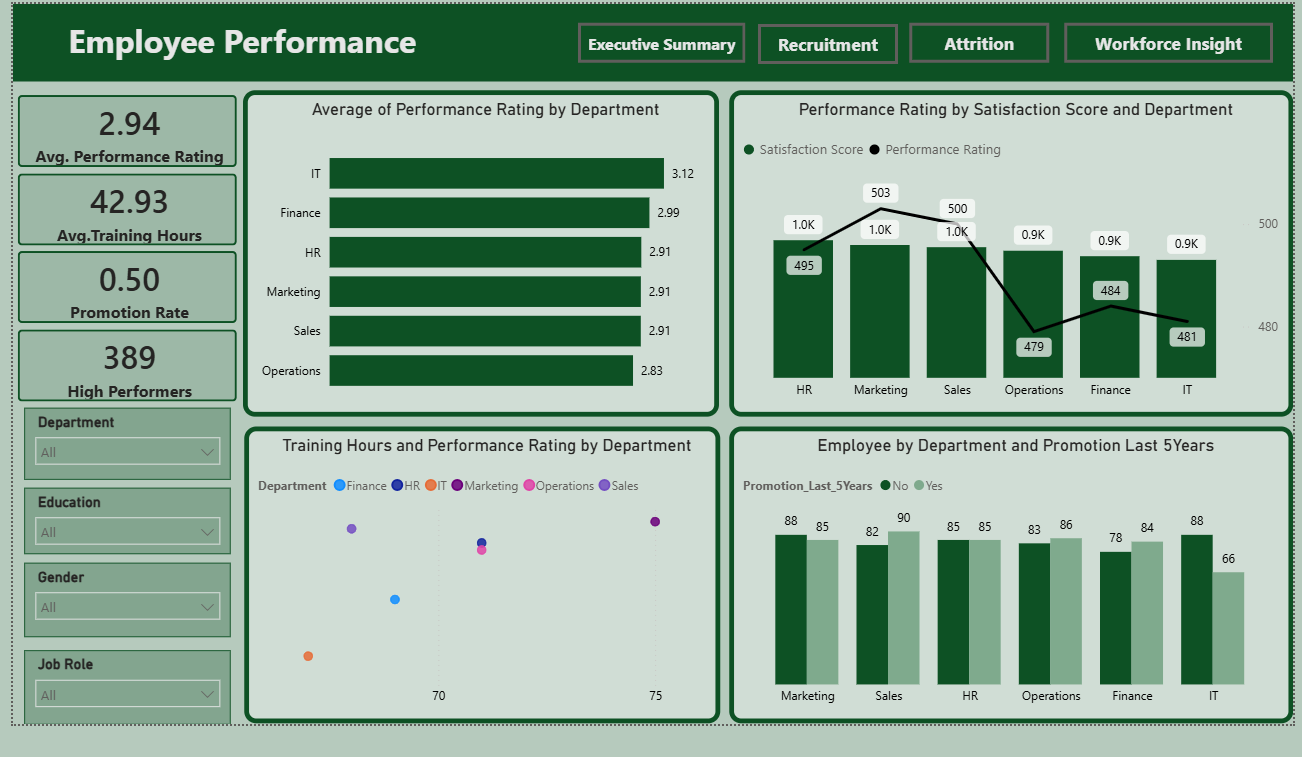

Layout of this report page (visuals, bound fields, positions):
{"tool":"powerbi","page":{"name":"Performance","canvas":[1280,720],"ordinal":2},"visuals":[{"type":"shape","box":[0,0,1280,77.5],"z":0},{"type":"textbox","box":[0,10,458.8,58.8],"z":1000},{"type":"actionButton","box":[896.2,18.8,140,40],"z":2000},{"type":"actionButton","box":[1051.2,18.8,208.8,40],"z":3000},{"type":"actionButton","box":[565,18.8,167.5,40],"z":4000},{"type":"actionButton","box":[745,20,140,40],"z":5000},{"type":"cardVisual","fields":{"Data":["Avg(Hr_Analytics.Performance_Rating)","Avg(Hr_Analytics.Training_Hours)","Hr_Analytics.Promotion Rate","Hr_Analytics.High Performers"]},"box":[0,86.8,229.9,316.7],"z":6000},{"type":"clusteredBarChart","title":"Average of Performance Rating by Department","fields":{"Category":["Hr_Analytics.Department"],"Y":["Avg(Hr_Analytics.Performance_Rating)"]},"box":[229.9,86.8,475.7,326.5],"z":7000},{"type":"lineClusteredColumnComboChart","title":"Performance Rating by Satisfaction Score and Department","fields":{"Category":["Hr_Analytics.Department"],"Y":["Sum(Hr_Analytics.Satisfaction_Score)"],"Y2":["Sum(Hr_Analytics.Performance_Rating)"]},"box":[716.6,86.8,563.7,326.5],"z":8000},{"type":"scatterChart","title":"Training Hours and Performance Rating by Department","fields":{"Y":["CountNonNull(Hr_Analytics.Performance_Rating)"],"X":["Count(Hr_Analytics.Training_Hours)"],"Series":["Hr_Analytics.Department"]},"box":[231.2,422.5,475.7,297.1],"z":9000},{"type":"clusteredColumnChart","title":" Employee by Department and Promotion Last 5Years","fields":{"Category":["Hr_Analytics.Department"],"Y":["CountNonNull(Hr_Analytics.Employee_ID)"],"Series":["Hr_Analytics.Promotion_Last_5Years"]},"box":[716.6,423.1,563.7,297.1],"z":10000},{"type":"slicer","fields":{"Values":["Hr_Analytics.Department"]},"box":[11,403.5,206.7,72.1],"z":11000},{"type":"slicer","fields":{"Values":["Hr_Analytics.Gender"]},"box":[11,558.8,206.7,74.6],"z":12000},{"type":"slicer","fields":{"Values":["Hr_Analytics.Job_Role"]},"box":[11,645.7,206.7,74.6],"z":13000},{"type":"slicer","fields":{"Values":["Hr_Analytics.Education"]},"box":[11,484.2,206.7,66],"z":14000}]}

Visuals, with their boxes in screenshot pixels (x1, y1, x2, y2):
shape: (left=7, top=0, right=1291, bottom=78)
textbox: (left=7, top=10, right=467, bottom=69)
actionButton: (left=906, top=19, right=1046, bottom=59)
actionButton: (left=1061, top=19, right=1271, bottom=59)
actionButton: (left=574, top=19, right=742, bottom=59)
actionButton: (left=754, top=20, right=895, bottom=60)
cardVisual - Avg(Hr_Analytics.Performance_Rating) x Avg(Hr_Analytics.Training_Hours): (left=7, top=87, right=237, bottom=405)
"Average of Performance Rating by Department" clusteredBarChart: (left=237, top=87, right=715, bottom=415)
"Performance Rating by Satisfaction Score and Department" lineClusteredColumnComboChart: (left=726, top=87, right=1291, bottom=415)
"Training Hours and Performance Rating by Department" scatterChart: (left=239, top=424, right=716, bottom=722)
" Employee by Department and Promotion Last 5Years" clusteredColumnChart: (left=726, top=424, right=1291, bottom=722)
slicer - Hr_Analytics.Department: (left=18, top=405, right=225, bottom=477)
slicer - Hr_Analytics.Gender: (left=18, top=561, right=225, bottom=635)
slicer - Hr_Analytics.Job_Role: (left=18, top=648, right=225, bottom=723)
slicer - Hr_Analytics.Education: (left=18, top=486, right=225, bottom=552)
